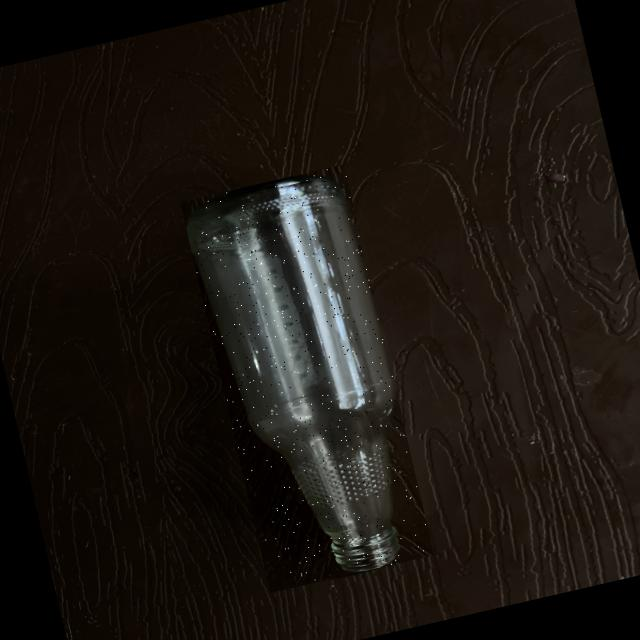Glass_Bottle: (187, 176, 398, 570)
